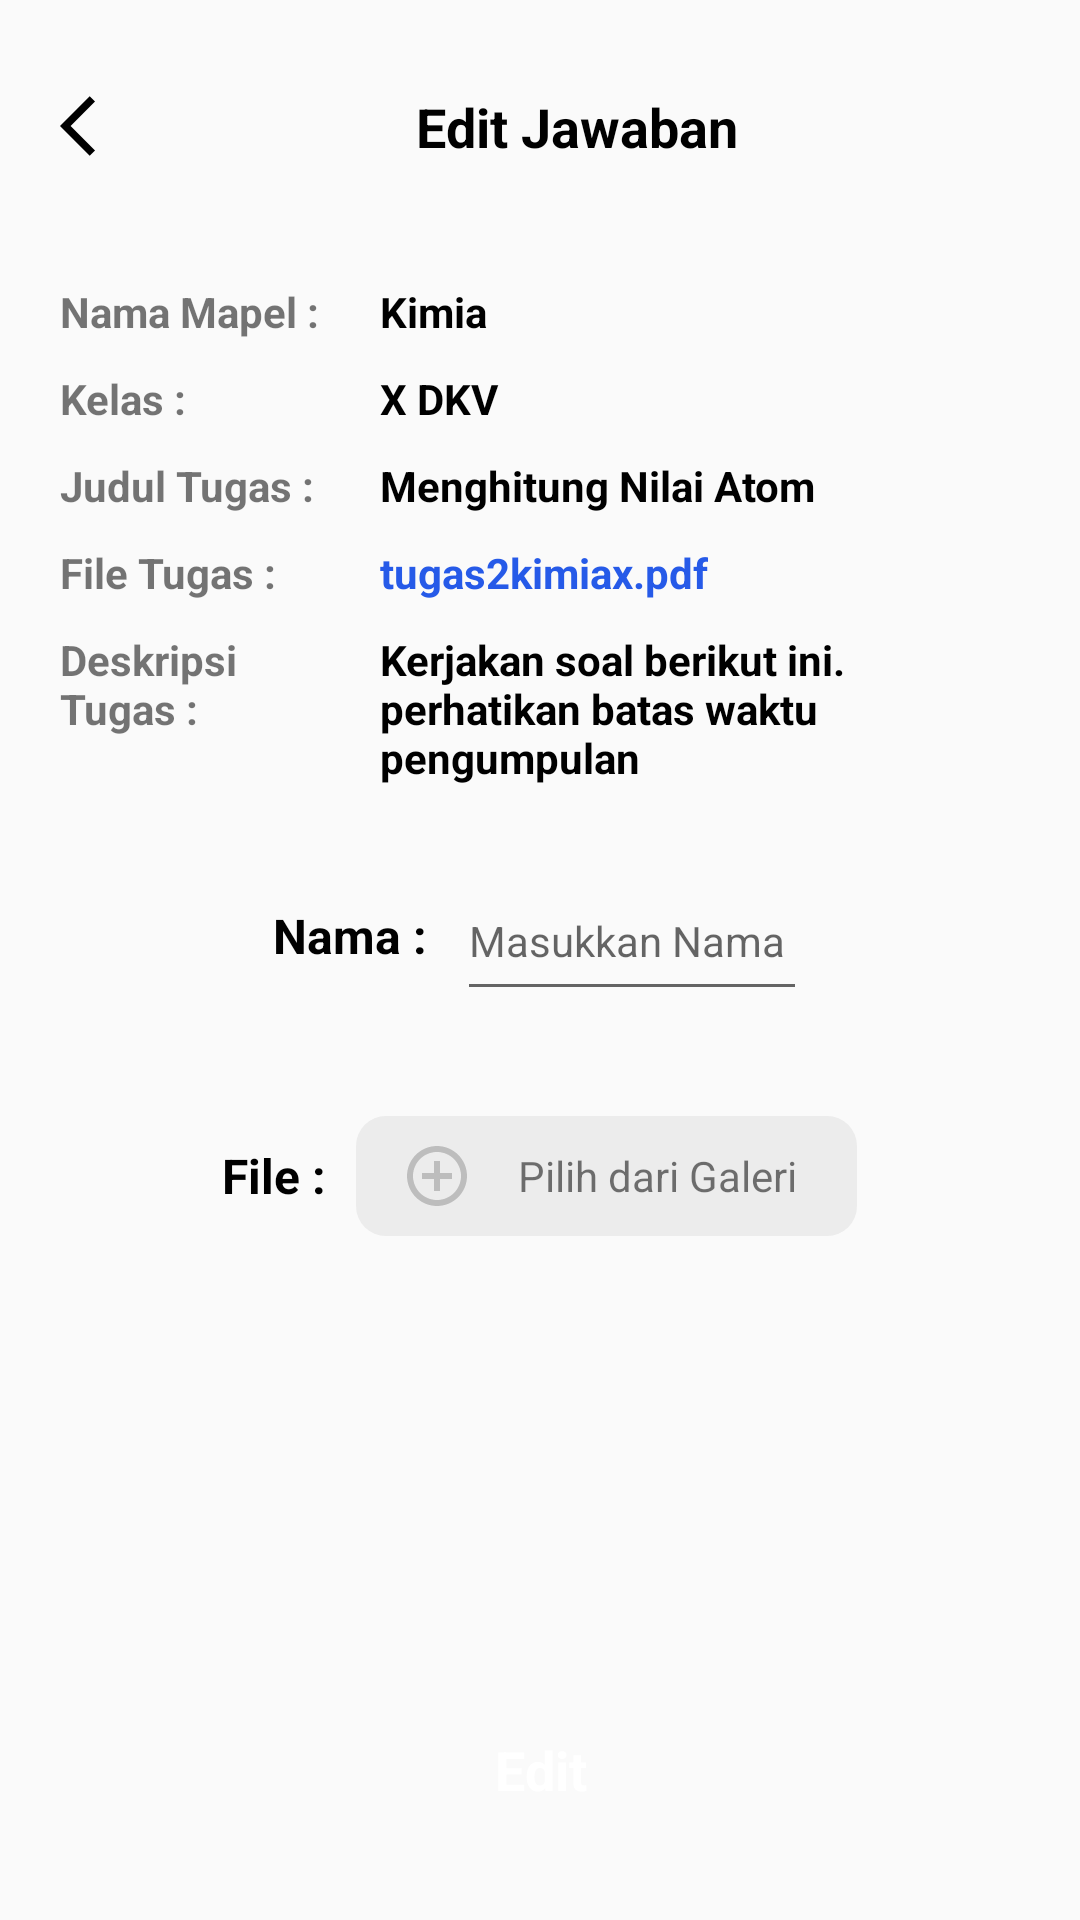

Named icons in this screenshot (1080px x 1920px) and their bounding boxes, (x1, y1, x2, y2):
back: (60, 96, 95, 156)
